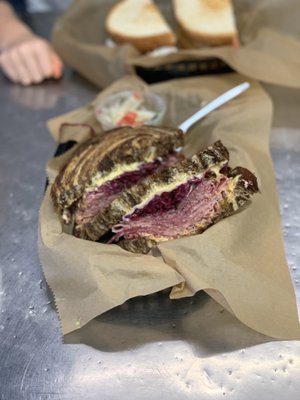soup: (48, 127, 259, 248)
